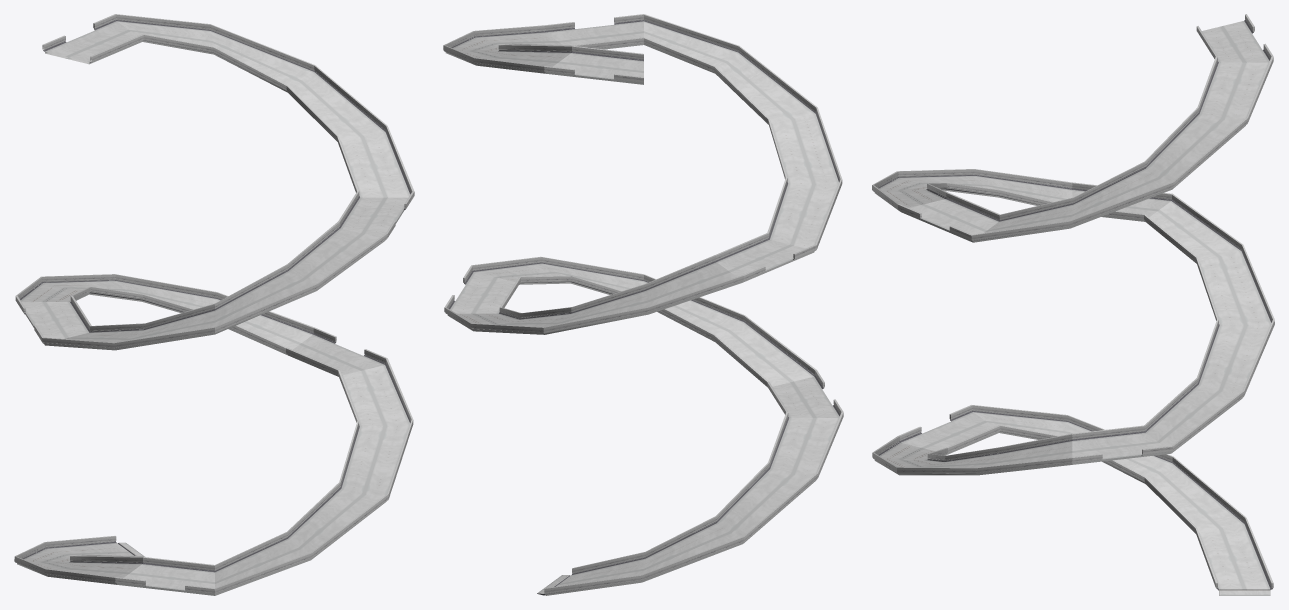
The model's file is Stairs_temp.fbx.
3 views of the same model, side by side, from view 1: azimuth 30°, elevation 25°; view 2: azimuth 150°, elevation 25°; view 3: azimuth 270°, elevation 25° (orthographic).
Visible parts, largest first — view 1: Museum_Stairs_Piece_2, Museum_Stairs_Piece_5, Museum_Stairs_Piece_4, Museum_Stairs_Piece_3, Museum_Stairs_Piece_1, Museum_Stairs_Platform_1, Museum_Stairs_Platform_5, Museum_Stairs_Platform_2, Museum_Stairs_Platform_4, Museum_Stairs_Platform_3; view 2: Museum_Stairs_Piece_4, Museum_Stairs_Piece_1, Museum_Stairs_Piece_2, Museum_Stairs_Piece_3, Museum_Stairs_Piece_5, Museum_Stairs_Platform_5, Museum_Stairs_Platform_3, Museum_Stairs_Platform_4, Museum_Stairs_Platform_2, Museum_Stairs_Platform_1; view 3: Museum_Stairs_Piece_3, Museum_Stairs_Piece_5, Museum_Stairs_Piece_1, Museum_Stairs_Piece_2, Museum_Stairs_Piece_4, Museum_Stairs_Platform_2, Museum_Stairs_Platform_4, Museum_Stairs_Platform_1, Museum_Stairs_Platform_5, Museum_Stairs_Platform_3.
Boxes of the visible parts, x1,y1,x2,y2 form: Museum_Stairs_Piece_2: [215, 358, 413, 595]; Museum_Stairs_Piece_5: [116, 14, 413, 197]; Museum_Stairs_Piece_4: [42, 221, 387, 350]; Museum_Stairs_Piece_3: [16, 274, 314, 354]; Museum_Stairs_Piece_1: [14, 536, 144, 584]; Museum_Stairs_Platform_1: [115, 557, 214, 595]; Museum_Stairs_Platform_5: [42, 14, 143, 64]; Museum_Stairs_Platform_2: [286, 327, 386, 376]; Museum_Stairs_Platform_4: [338, 191, 414, 240]; Museum_Stairs_Platform_3: [15, 296, 91, 344]; Museum_Stairs_Piece_4: [644, 14, 842, 251]; Museum_Stairs_Piece_1: [537, 412, 843, 595]; Museum_Stairs_Piece_2: [472, 256, 816, 386]; Museum_Stairs_Piece_3: [444, 255, 743, 334]; Museum_Stairs_Piece_5: [443, 25, 572, 73]; Museum_Stairs_Platform_5: [544, 46, 643, 84]; Museum_Stairs_Platform_3: [715, 233, 816, 282]; Museum_Stairs_Platform_4: [545, 14, 643, 49]; Museum_Stairs_Platform_2: [444, 265, 520, 313]; Museum_Stairs_Platform_1: [767, 370, 843, 417]; Museum_Stairs_Piece_3: [1144, 194, 1274, 453]; Museum_Stairs_Piece_5: [971, 56, 1273, 242]; Museum_Stairs_Piece_1: [972, 405, 1273, 595]; Museum_Stairs_Piece_2: [872, 433, 1072, 475]; Museum_Stairs_Piece_4: [872, 169, 1072, 211]; Museum_Stairs_Platform_2: [1072, 425, 1172, 464]; Museum_Stairs_Platform_4: [898, 192, 1000, 242]; Museum_Stairs_Platform_1: [898, 405, 1000, 455]; Museum_Stairs_Platform_5: [1196, 14, 1273, 62]; Museum_Stairs_Platform_3: [1072, 182, 1172, 221].
Size of what is drawn, in the model's own units: 5191 by 7607 by 5190.
Materials: 1 (1 with a texture image).
